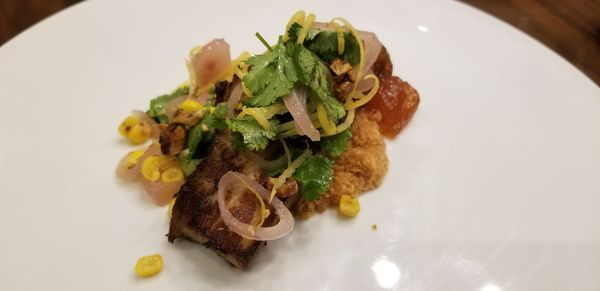curry: (10, 0, 598, 286)
